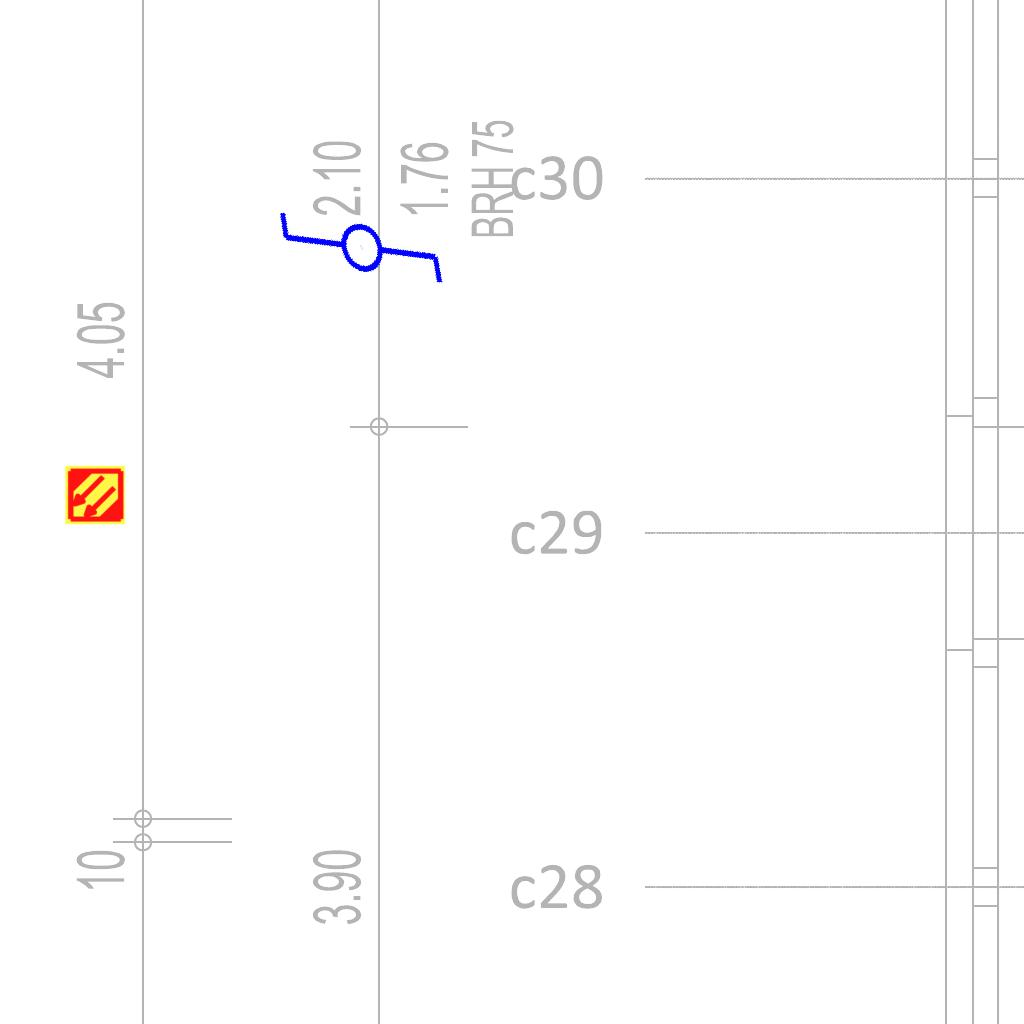ASR_Ansaugrauchmelder: (64, 464, 126, 526)
Wechselschalter: (265, 154, 462, 358)
